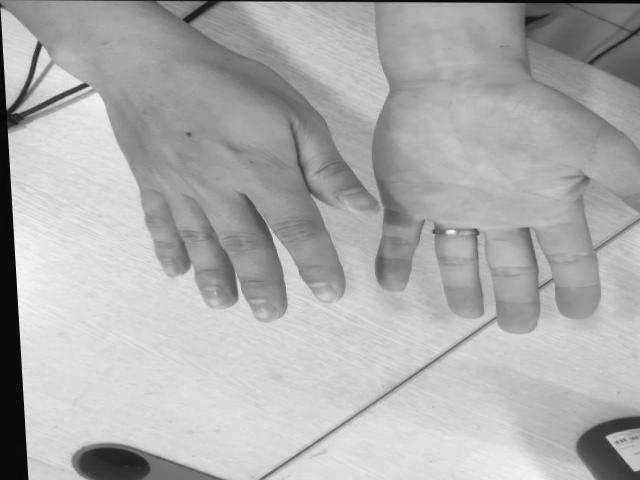not-gloved: (108, 42, 363, 320), (375, 78, 640, 332)
